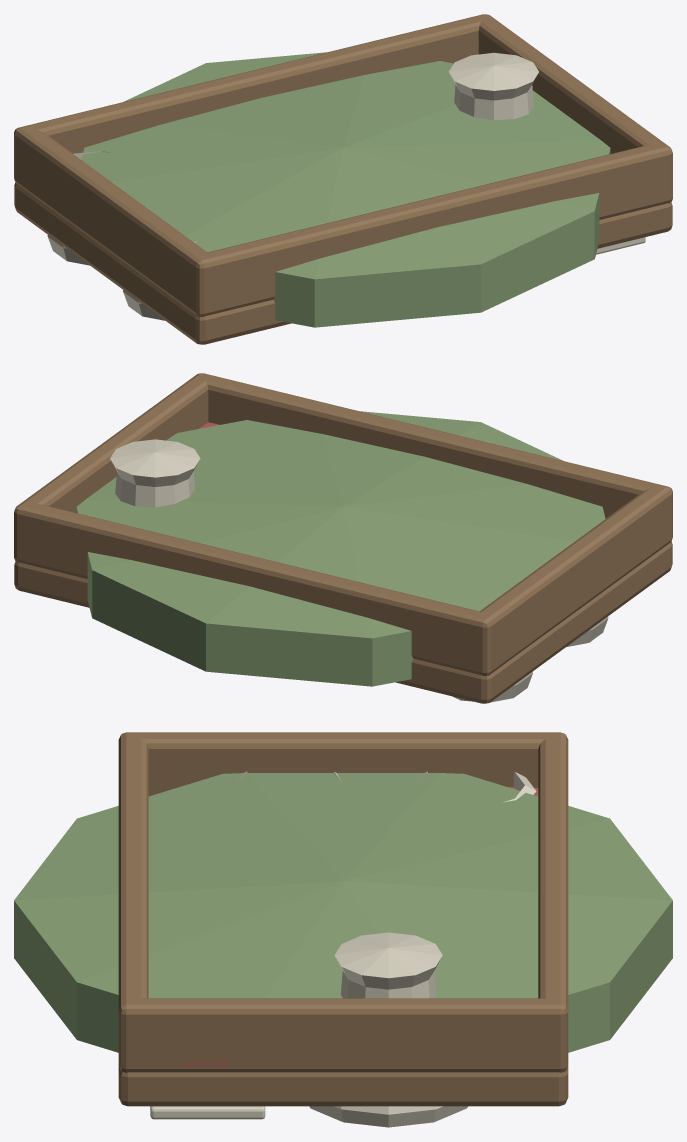
File: pigment_tray.glb
3 renders of one model, top to bottom at view 1: azimuth 30°, elevation 25°; view 2: azimuth 150°, elevation 25°; view 3: azimuth 270°, elevation 25°, orthographic. The views are drawn at different scales.
Parts seen in each view (by area): view 1: 090-pigment-tray/3, 090-pigment-tray/0, 090-pigment-tray/1; view 2: 090-pigment-tray/3, 090-pigment-tray/0, 090-pigment-tray/1; view 3: 090-pigment-tray/3, 090-pigment-tray/0, 090-pigment-tray/1.
Boxes of the visible parts, box(x1,y1,x2,y2) form: 090-pigment-tray/3: box(81, 52, 610, 327); 090-pigment-tray/0: box(14, 14, 672, 344); 090-pigment-tray/1: box(47, 52, 645, 320); 090-pigment-tray/3: box(76, 411, 605, 686); 090-pigment-tray/0: box(14, 373, 672, 703); 090-pigment-tray/1: box(110, 439, 608, 702); 090-pigment-tray/3: box(14, 773, 672, 1052); 090-pigment-tray/0: box(118, 732, 568, 1106); 090-pigment-tray/1: box(150, 771, 536, 1127).
Bounding box in the file's own units: 2 × 0.4736 × 2.
